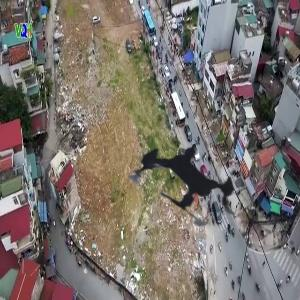drone: (107, 96, 277, 266)
